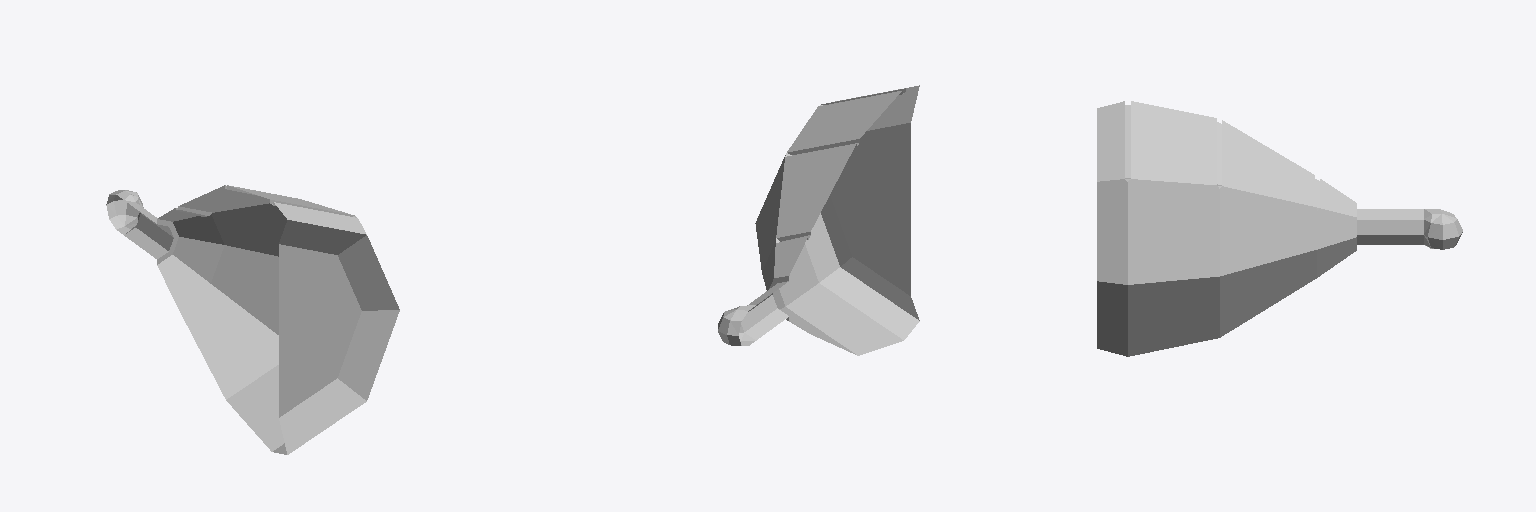
Rendered from meat.obj.
3 renders of one model, left to right at view 1: azimuth 30°, elevation 25°; view 2: azimuth 150°, elevation 25°; view 3: azimuth 270°, elevation 25°, orthographic.
Parts seen in each view (by area): view 1: Circle; view 2: Circle; view 3: Circle.
Boxes of the visible parts, <box> form: Circle: <box>106,185,399,454</box>; Circle: <box>718,85,919,355</box>; Circle: <box>1097,101,1462,356</box>.
Size of the model in its own units: 0.8074 by 1.61 by 2.13.